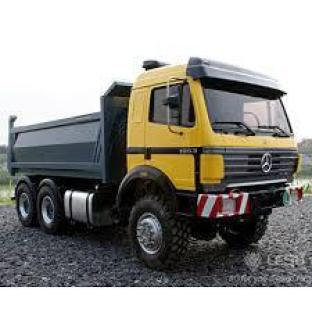Vehicle: (6, 34, 312, 272)
